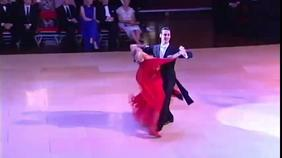sit: (114, 4, 143, 36)
